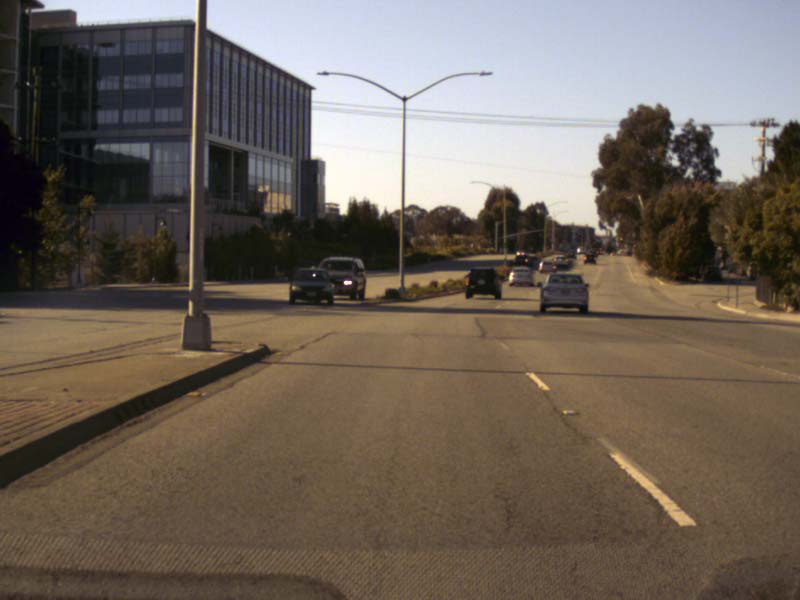Red: (619, 237, 623, 241)
